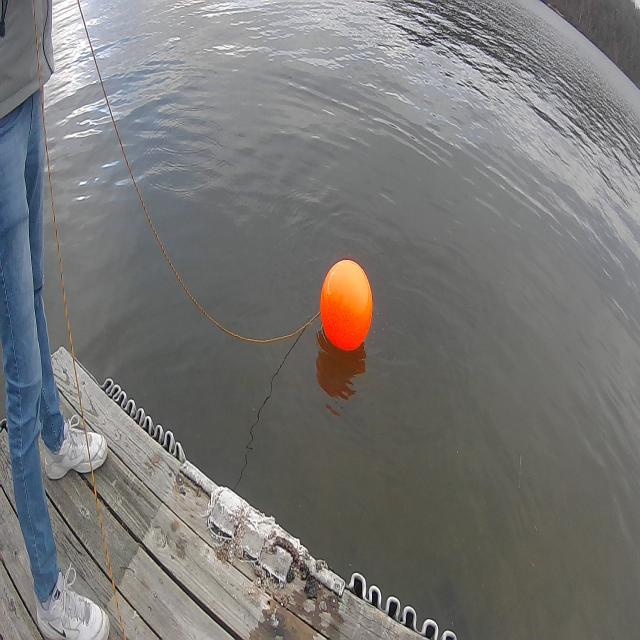Buoy: (314, 254, 380, 357)
